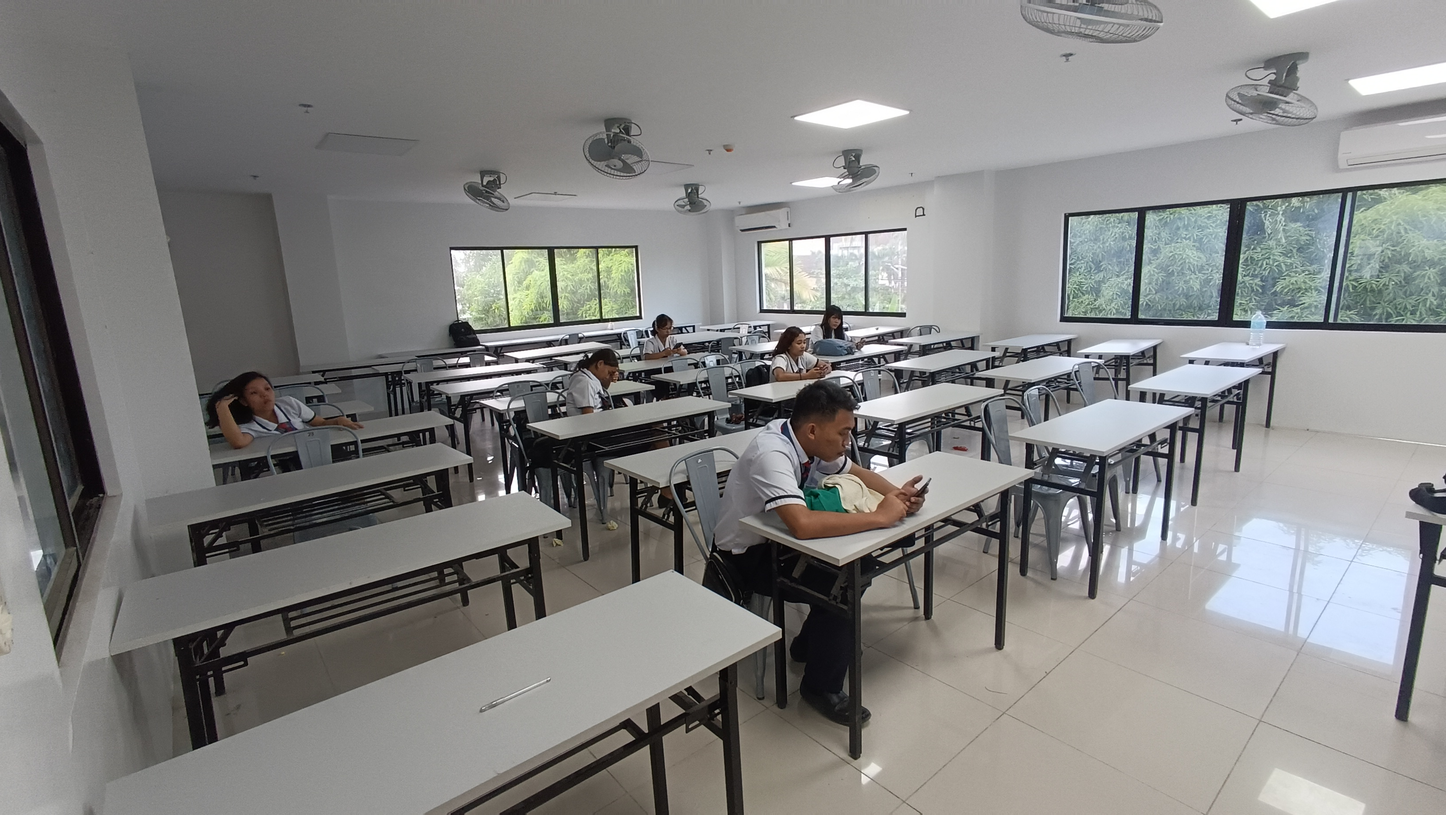with-student: (709, 377, 1041, 622), (206, 368, 456, 469), (526, 345, 731, 448), (732, 324, 868, 421), (612, 312, 731, 374), (804, 304, 907, 365)
